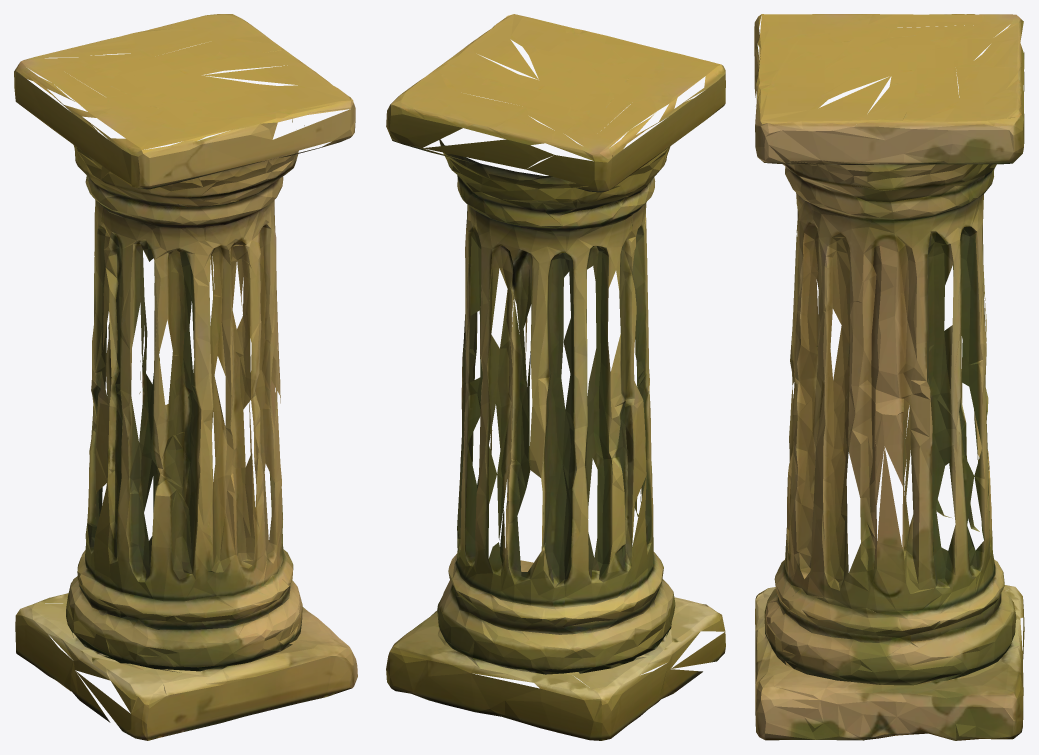
The model's file is pillar_a.glb.
3 renders of one model, left to right at view 1: azimuth 30°, elevation 25°; view 2: azimuth 150°, elevation 25°; view 3: azimuth 270°, elevation 25°, orthographic. The views are drawn at different scales.
Visible parts, largest first — view 1: geometry_0; view 2: geometry_0; view 3: geometry_0.
Part boxes in pixels (x1=…): geometry_0: x1=14, y1=14, x2=357, y2=740; geometry_0: x1=386, y1=14, x2=725, y2=740; geometry_0: x1=754, y1=14, x2=1024, y2=740.
Bounding box in the file's own units: 0.8858 × 2.2 × 0.8724.
Materials: 1 (1 with a texture image).
